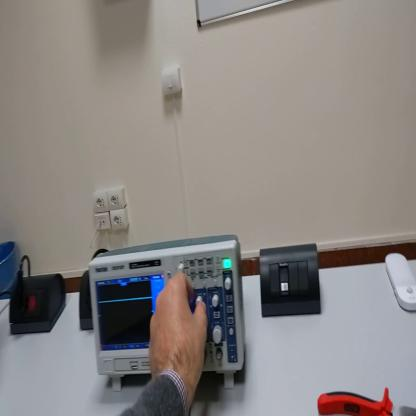hand: (149, 271, 209, 394)
oscilloscope: (92, 236, 249, 390)
pliers: (318, 390, 416, 415)
socket: (11, 273, 68, 340), (78, 273, 93, 332)
